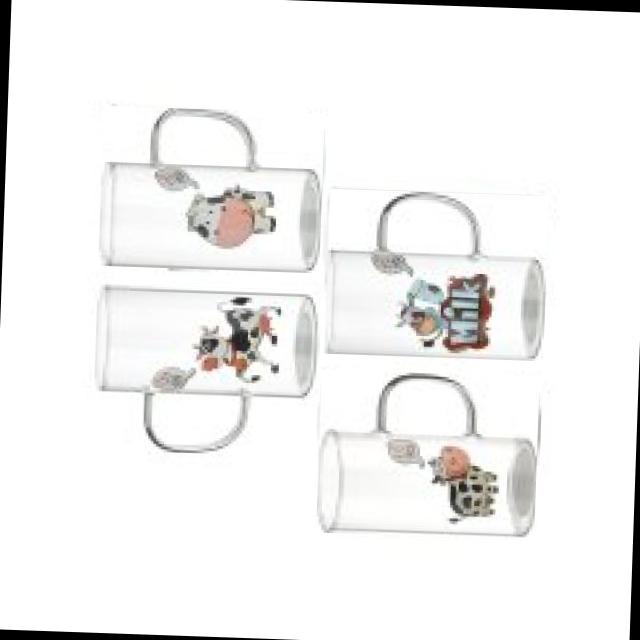Coffee Mug: (90, 283, 318, 457), (324, 187, 548, 360), (316, 368, 540, 539), (98, 104, 324, 272)
